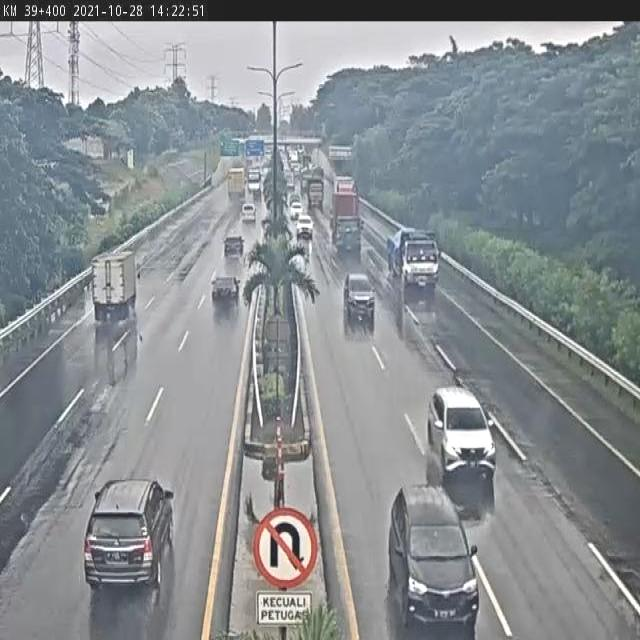Car: (388, 486, 478, 637), (83, 477, 175, 590), (426, 372, 498, 501), (342, 272, 376, 336), (211, 276, 240, 304), (223, 235, 245, 258), (296, 214, 314, 239), (241, 202, 256, 223)
Truck: (79, 243, 138, 324), (382, 220, 440, 298), (328, 176, 365, 257)
